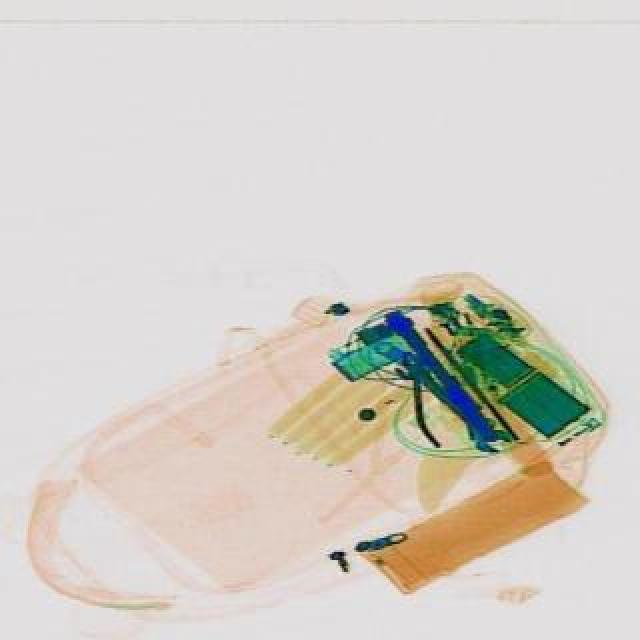scissors: (376, 302, 514, 462)
wrench: (382, 344, 474, 452)
